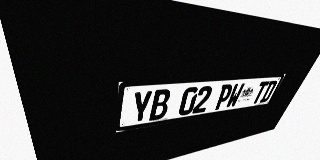0: (177, 87, 200, 116)
2: (192, 85, 214, 114)
B: (149, 89, 172, 121)
D: (259, 80, 278, 103)
P: (213, 84, 234, 110)
T: (250, 81, 270, 104)
W: (225, 83, 245, 108)
Y: (130, 90, 153, 124)
